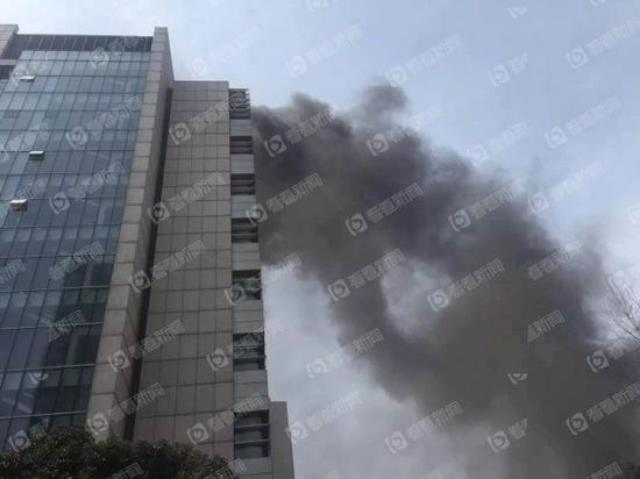smoke: (452, 182, 588, 331), (254, 105, 374, 268), (524, 332, 636, 477), (364, 334, 514, 401), (377, 147, 449, 260), (318, 273, 382, 331)
